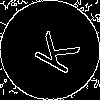K: (25, 25, 81, 77)
